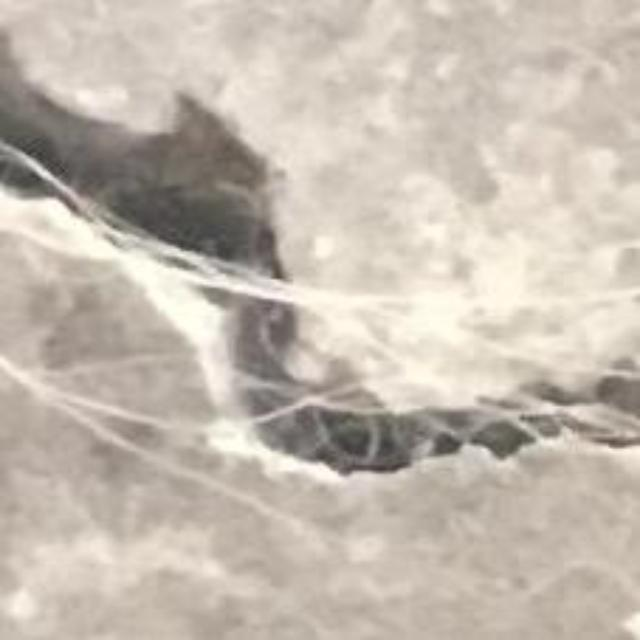crack: (0, 34, 639, 473)
